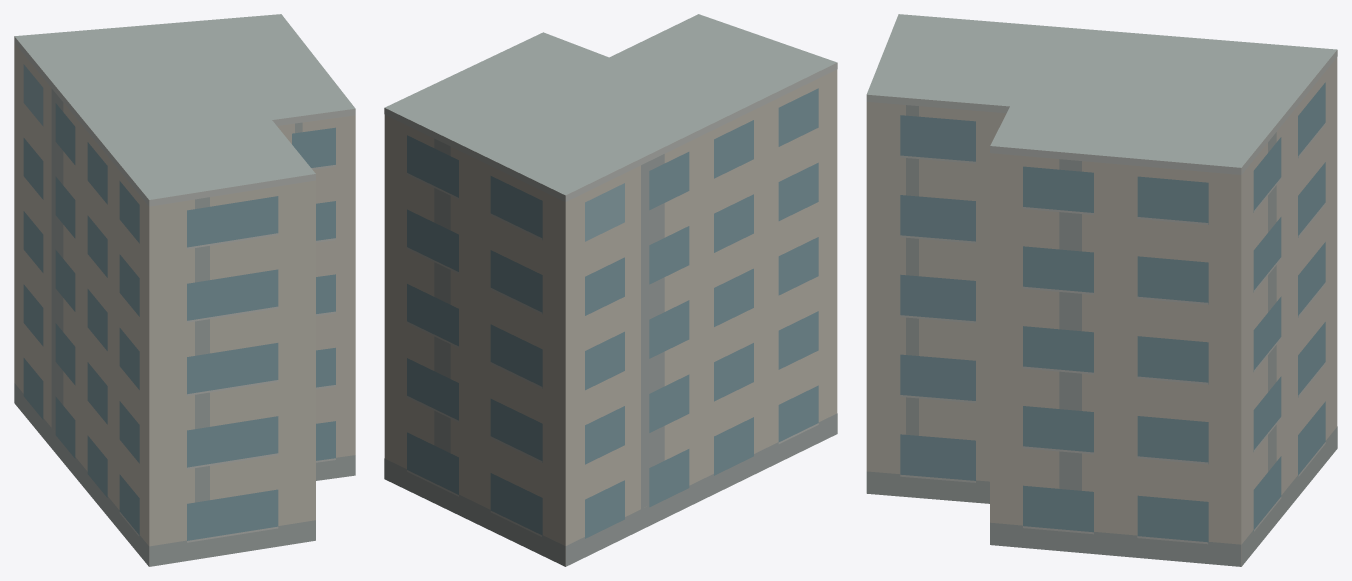
Rendered from survey-upis-32921423.glb.
3 views of the same model, side by side, from view 1: azimuth 30°, elevation 25°; view 2: azimuth 150°, elevation 25°; view 3: azimuth 270°, elevation 25° (orthographic). The views are drawn at different scales.
Visible parts, largest first — view 1: survey-upis-32921423.tmp; view 2: survey-upis-32921423.tmp; view 3: survey-upis-32921423.tmp.
Part boxes in pixels (x1,y1,x2,y2): survey-upis-32921423.tmp: (14,14,355,566); survey-upis-32921423.tmp: (384,14,837,566); survey-upis-32921423.tmp: (866,14,1337,566).
Size of the model in its own units: 11.26 by 13.6 by 14.56.
